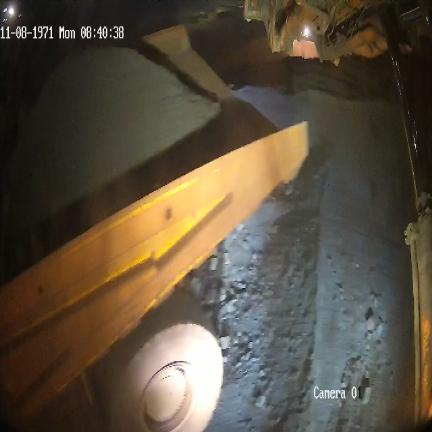pile: (2, 43, 229, 241)
